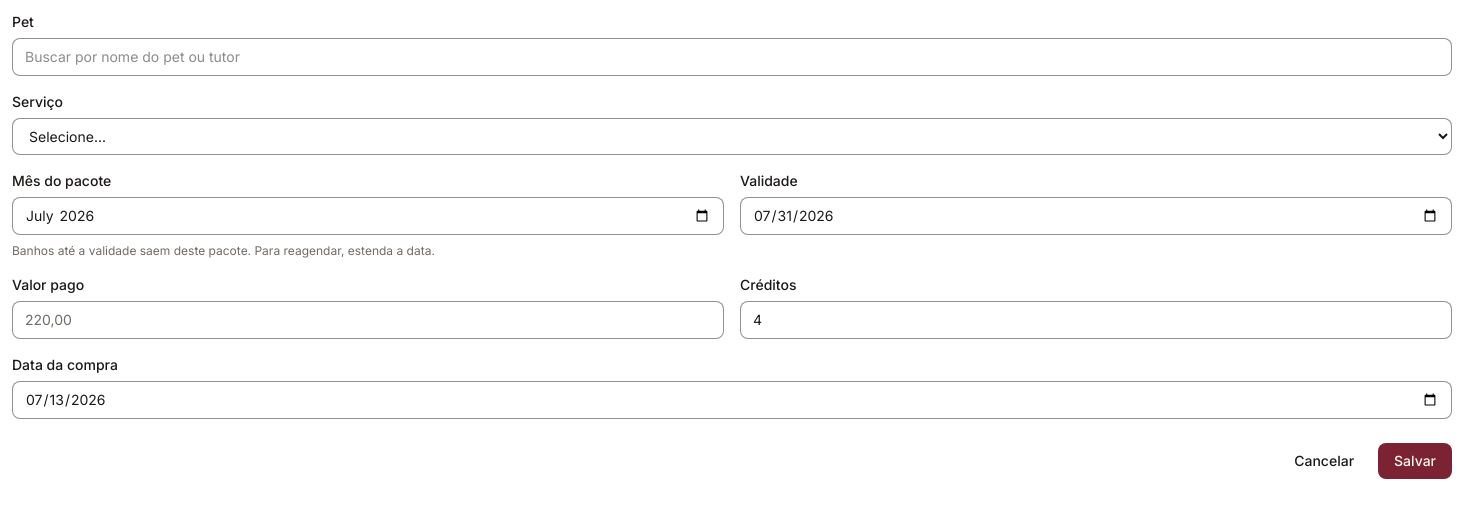
Scenario: PacoteForm › sem pet escolhido, não envia e mostra o erro
Select "Pacote Fidelidade" in the dropdown labelled "Serviço" at (732, 136), box [12,118,1452,155]
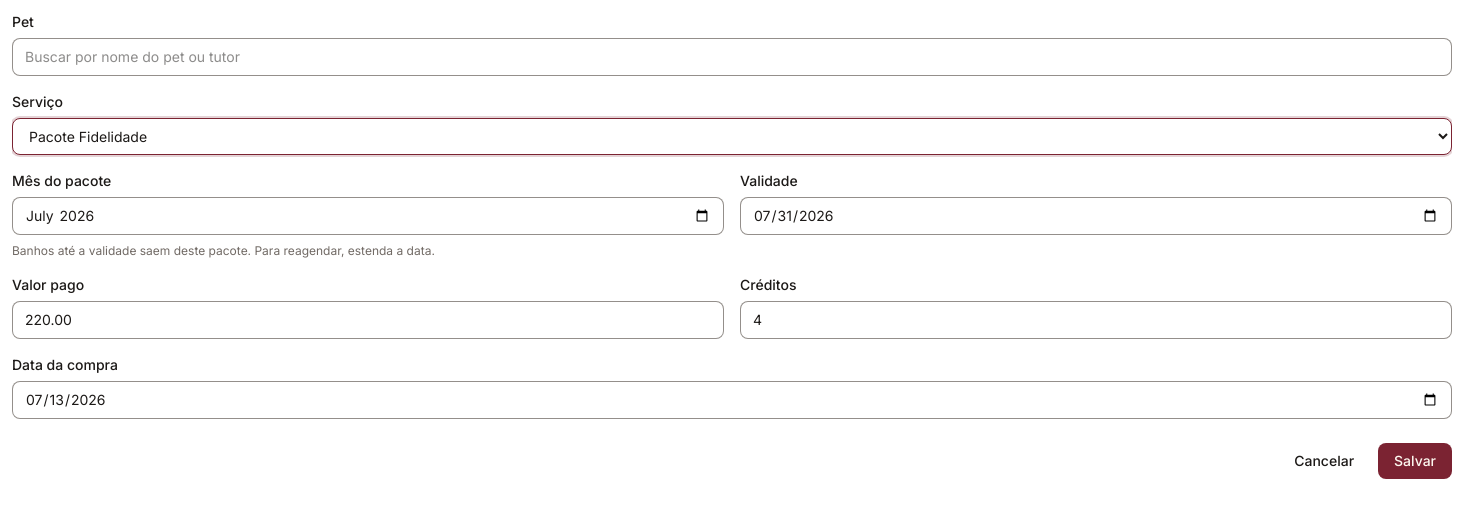
Click the button "Salvar" at (1415, 461), box [1378,443,1452,479]
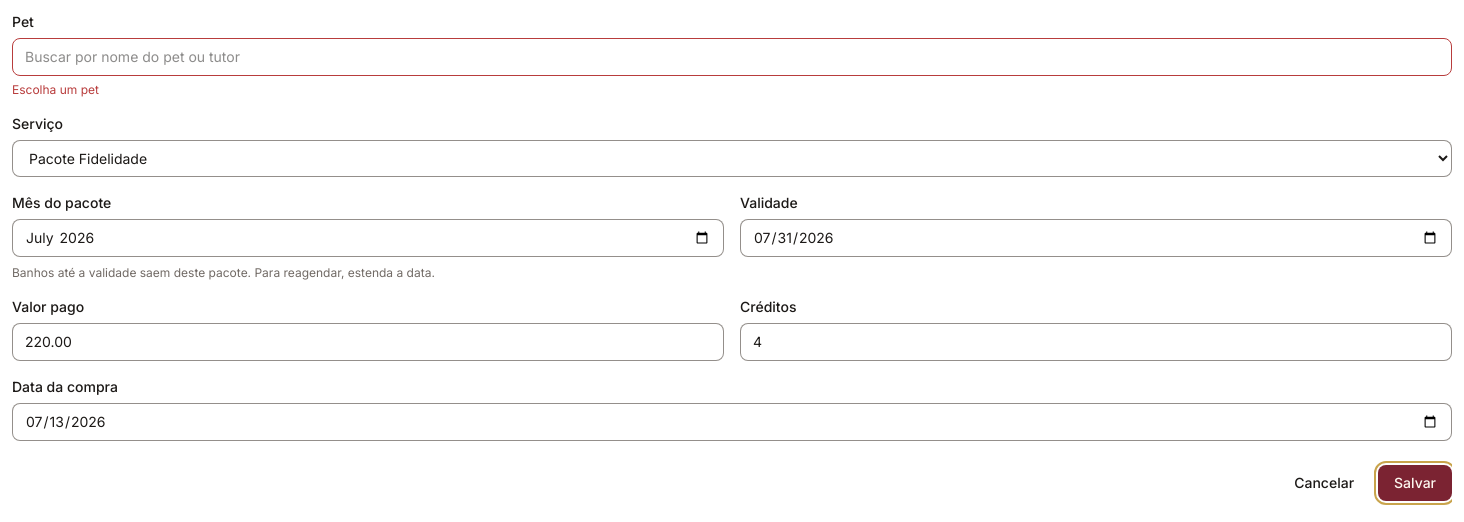
Expected: the text "Escolha um pet" is shown, [12,82,99,97]
